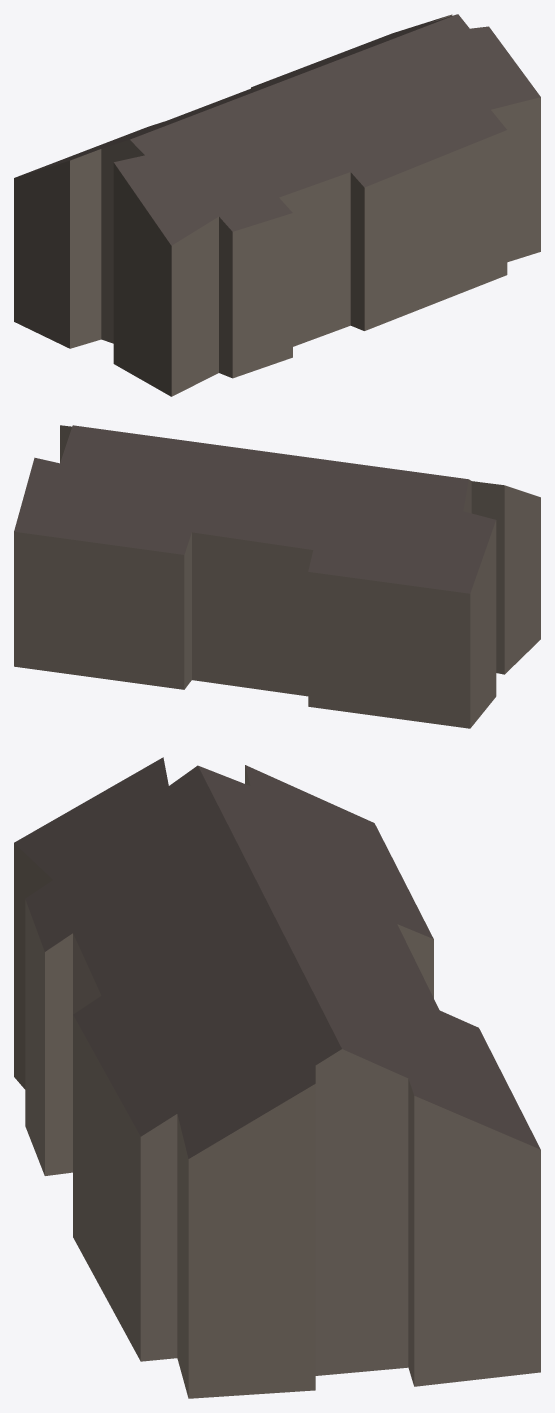
The picture shows the model from 3 angles, top to bottom: view 1: azimuth 30°, elevation 25°; view 2: azimuth 150°, elevation 25°; view 3: azimuth 270°, elevation 25°; orthographic projection. The views are drawn at different scales.
Visible parts, largest first — view 1: HP-w783664807; view 2: HP-w783664807; view 3: HP-w783664807.
Boxes of the visible parts, x1=… form: HP-w783664807: x1=14, y1=14, x2=540, y2=396; HP-w783664807: x1=14, y1=425, x2=540, y2=728; HP-w783664807: x1=14, y1=757, x2=540, y2=1398.
Size of the model in its own units: 30.61 by 13.13 by 19.31.
